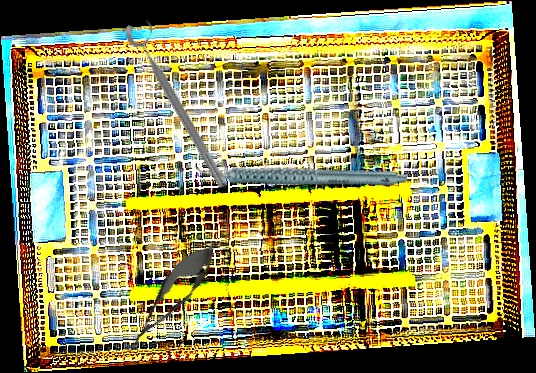Fixation Ring: (121, 13, 241, 192)
Handpiece: (194, 118, 409, 228)
Micro Scissor: (114, 233, 226, 363)
